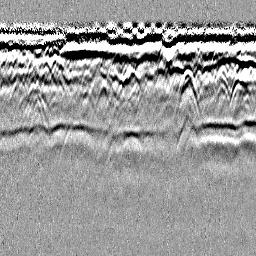cavity: (117, 64, 143, 96)
